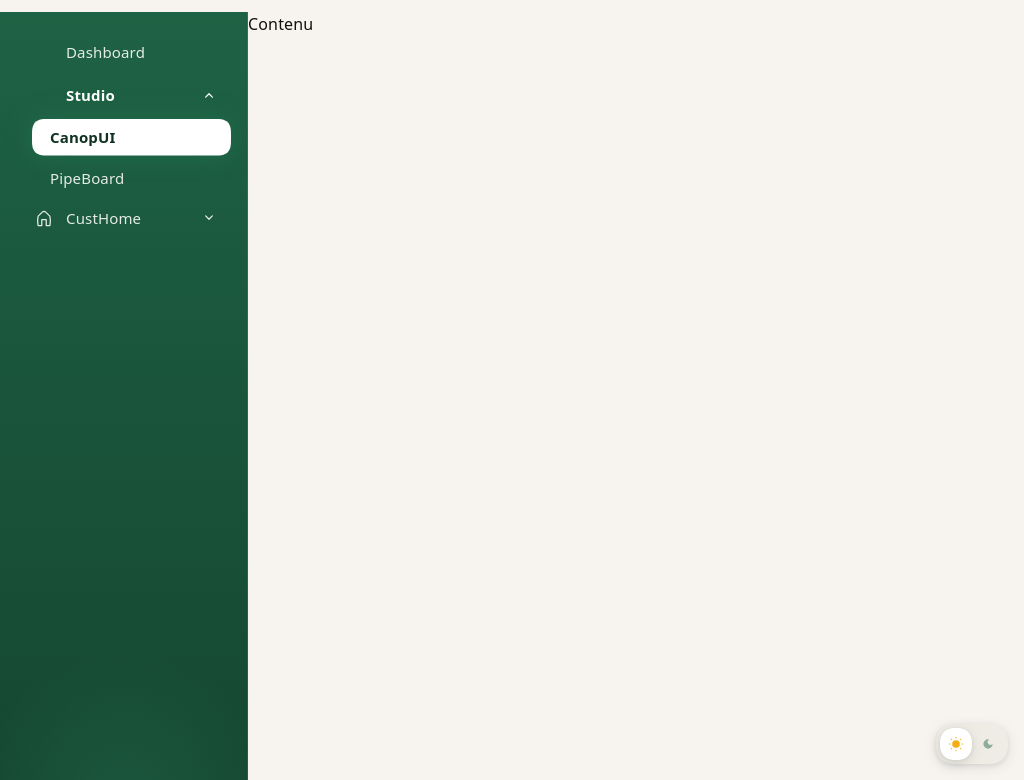
Test: Navbar sous-items — a11y et cycle de vie › permet de refermer une section active
Expected: the link "CanopUI" is shown, [32,119,231,156]
Click the link "Studio": (90, 94) [66,84,219,105]
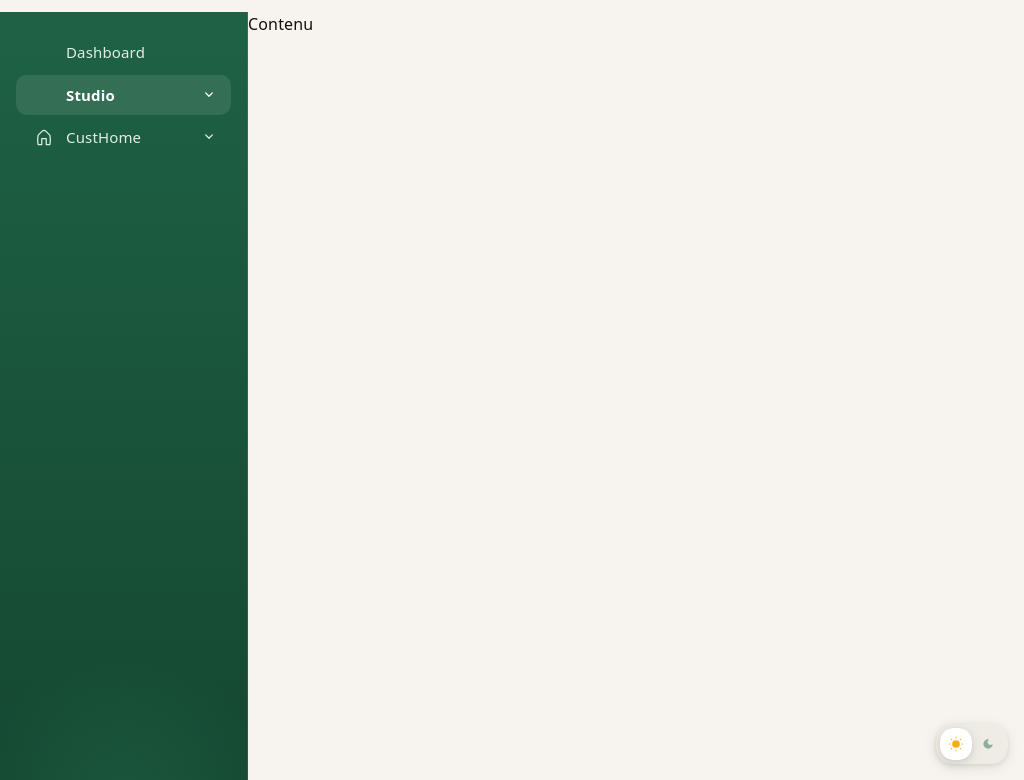
Expected: the link "Studio" is collapsed, [66,84,219,105]
Expected: the link "CanopUI" is gone
